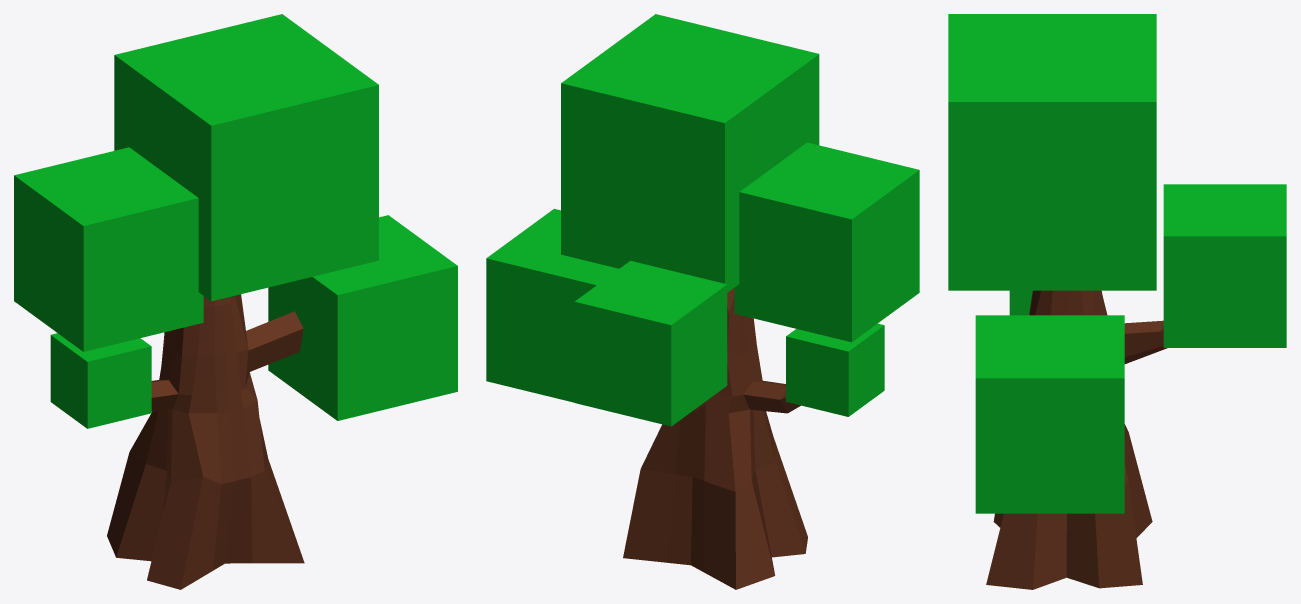
File: tree.fbx
3 views of the same model, side by side, from view 1: azimuth 30°, elevation 25°; view 2: azimuth 150°, elevation 25°; view 3: azimuth 270°, elevation 25° (orthographic). The views are drawn at different scales.
Visible parts, largest first — view 1: Cube.001; view 2: Cube.001; view 3: Cube.001.
Part boxes in pixels (x1,y1,x2,y2): Cube.001: [14, 14, 457, 589]; Cube.001: [486, 14, 919, 589]; Cube.001: [948, 14, 1286, 589].
Bounding box in the file's own units: 623 × 758 × 453.
